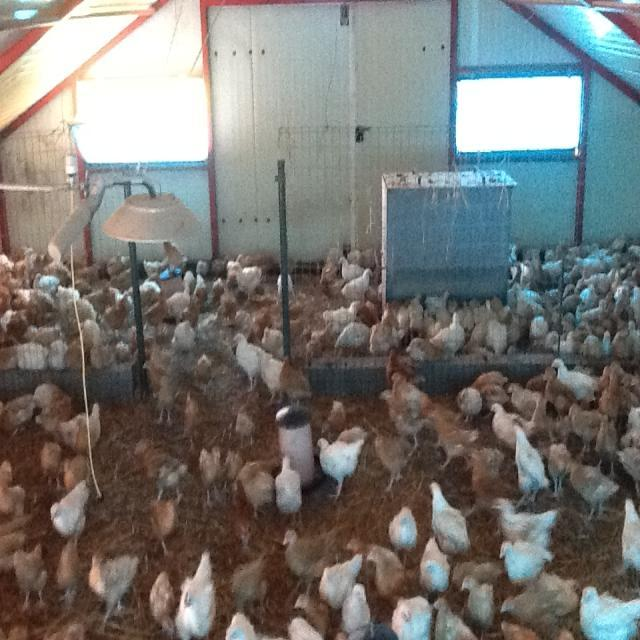poussin: (497, 577, 582, 640), (280, 525, 342, 598), (88, 554, 144, 631), (314, 424, 366, 506), (134, 438, 190, 506), (562, 457, 620, 522), (428, 409, 484, 475), (489, 499, 560, 551), (425, 480, 472, 557), (176, 551, 215, 640), (577, 584, 640, 639), (510, 420, 550, 506), (466, 450, 514, 520), (376, 386, 429, 446), (373, 434, 423, 491), (318, 551, 365, 611), (13, 540, 50, 616), (47, 482, 90, 543), (140, 361, 180, 424), (496, 540, 552, 584), (546, 356, 598, 403), (272, 453, 304, 528), (459, 574, 498, 632), (366, 544, 408, 596), (237, 460, 277, 514), (230, 556, 268, 612), (383, 347, 426, 395), (278, 356, 314, 412), (149, 566, 176, 640), (389, 594, 432, 640), (63, 402, 101, 454), (566, 404, 610, 448), (488, 402, 534, 444), (252, 351, 288, 404), (389, 372, 434, 414), (54, 540, 82, 607), (32, 386, 70, 435), (232, 332, 262, 394), (432, 598, 476, 640), (618, 497, 640, 579), (0, 511, 30, 571), (8, 294, 52, 334), (0, 462, 28, 524), (290, 594, 332, 634), (148, 497, 176, 557), (386, 506, 418, 558), (419, 538, 452, 588), (221, 447, 247, 510), (198, 446, 222, 513), (342, 584, 372, 634), (596, 415, 618, 482), (0, 390, 33, 434), (180, 389, 205, 446), (532, 396, 565, 439), (484, 314, 521, 352), (614, 440, 640, 494), (430, 311, 466, 350), (542, 367, 574, 410), (332, 322, 370, 358), (546, 442, 570, 498), (228, 262, 264, 298), (318, 398, 347, 442), (51, 257, 84, 293), (612, 284, 640, 326), (321, 300, 361, 329), (530, 252, 564, 286), (304, 320, 336, 356), (366, 324, 404, 354), (456, 382, 483, 424), (145, 288, 168, 336), (342, 268, 374, 302), (506, 384, 542, 414), (16, 323, 68, 343), (513, 281, 540, 319), (600, 372, 620, 421), (14, 342, 49, 370), (38, 440, 61, 482), (22, 247, 53, 278), (167, 284, 191, 324), (582, 292, 612, 324), (104, 292, 130, 328), (106, 252, 132, 288), (462, 318, 488, 354), (477, 384, 508, 414), (89, 278, 118, 310), (466, 371, 506, 394), (171, 318, 196, 354), (399, 296, 427, 328), (68, 296, 99, 324), (140, 258, 171, 286), (575, 330, 611, 354), (625, 402, 640, 458), (162, 240, 184, 276), (608, 324, 632, 357), (62, 458, 90, 486), (570, 253, 604, 276), (262, 326, 288, 356), (54, 285, 80, 315), (334, 254, 366, 278), (583, 264, 615, 288), (406, 340, 444, 360), (0, 259, 29, 285), (210, 278, 233, 310), (80, 318, 104, 348), (554, 284, 581, 310), (472, 299, 500, 323), (316, 257, 338, 287), (48, 341, 69, 372), (554, 329, 580, 354), (509, 257, 534, 283), (586, 364, 610, 391), (526, 312, 548, 341), (594, 248, 620, 272), (234, 255, 270, 272), (381, 298, 402, 326), (66, 339, 84, 371), (8, 288, 34, 310), (196, 353, 215, 383), (75, 260, 102, 281), (86, 344, 108, 369), (424, 292, 450, 313), (194, 274, 209, 310), (208, 253, 232, 275), (560, 309, 578, 338), (31, 274, 58, 292), (508, 260, 523, 291), (542, 329, 562, 352), (628, 319, 640, 356), (274, 276, 294, 298), (580, 283, 596, 308), (610, 261, 622, 292), (622, 265, 640, 284), (182, 272, 196, 291), (196, 258, 210, 276)
